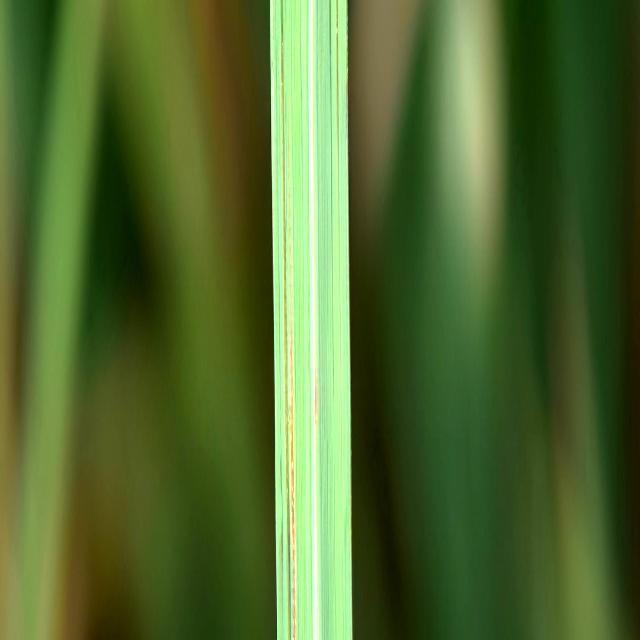BLS: (280, 0, 292, 640), (288, 120, 297, 640), (329, 0, 335, 412), (336, 0, 340, 196)
